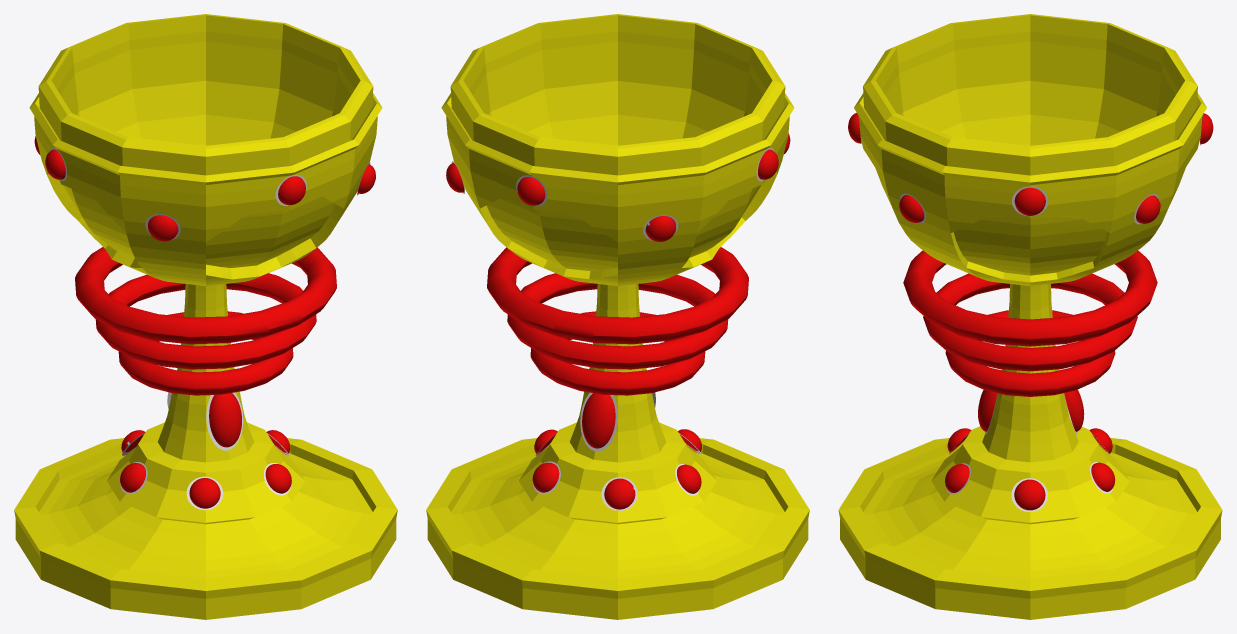
Rendered from hwg_mcguffin.fbx.
3 renders of one model, left to right at view 1: azimuth 30°, elevation 25°; view 2: azimuth 150°, elevation 25°; view 3: azimuth 270°, elevation 25°, orthographic.
Parts seen in each view (by area): view 1: nurbsToPoly1, pasted__pasted__pTorus1 (×2), pasted__pasted__pasted__pTorus1, pasted__pasted__pSphereShape1, pasted__pasted__pasted__pasted__pasted__pasted__pasted__pSph (×2), pasted__pasted__pasted__pasted__pasted__pasted__pasted__past (×2), pasted__pasted__pasted__pasted__pasted__pSphereShape1, pasted__pasted__pasted__pasted__pasted__pasted__pSphereShape; view 2: nurbsToPoly1, pasted__pasted__pTorus1 (×2), pasted__pasted__pasted__pTorus1, pasted__pasted__pSphereShape1, pasted__pasted__pasted__pasted__pasted__pasted__pasted__past (×2), pasted__pasted__pasted__pasted__pasted__pasted__pasted__pSph (×2), pasted__pasted__pasted__pasted__pasted__pasted__pSphereShape (×2); view 3: nurbsToPoly1, pasted__pasted__pTorus1 (×2), pasted__pasted__pasted__pTorus1, pasted__pasted__pasted__pasted__pasted__pasted__pasted__past (×3), pasted__pasted__pasted__pasted__pasted__pasted__pasted__pSph (×2), pasted__pasted__pSphereShape1 (×2), pasted__pasted__pasted__pasted__pasted__pSphereShape1.
Part boxes in pixels (x1,y1,x2,y2): nurbsToPoly1: [14, 14, 397, 619]; pasted__pasted__pTorus1 (×2): [95, 273, 316, 395]; pasted__pasted__pasted__pTorus1: [75, 247, 336, 344]; pasted__pasted__pSphereShape1: [206, 392, 243, 450]; pasted__pasted__pasted__pasted__pasted__pasted__pasted__pSph (×2): [120, 462, 223, 510]; pasted__pasted__pasted__pasted__pasted__pasted__pasted__past (×2): [264, 174, 306, 495]; pasted__pasted__pasted__pasted__pasted__pSphereShape1: [145, 214, 180, 241]; pasted__pasted__pasted__pasted__pasted__pasted__pSphereShape: [45, 148, 66, 180]; nurbsToPoly1: [426, 14, 809, 619]; pasted__pasted__pTorus1 (×2): [507, 273, 728, 395]; pasted__pasted__pasted__pTorus1: [487, 247, 748, 344]; pasted__pasted__pSphereShape1: [580, 392, 618, 451]; pasted__pasted__pasted__pasted__pasted__pasted__pasted__past (×2): [532, 461, 637, 511]; pasted__pasted__pasted__pasted__pasted__pasted__pasted__pSph (×2): [516, 175, 701, 495]; pasted__pasted__pasted__pasted__pasted__pasted__pSphereShape (×2): [643, 148, 778, 241]; nurbsToPoly1: [838, 14, 1222, 619]; pasted__pasted__pTorus1 (×2): [923, 273, 1137, 396]; pasted__pasted__pasted__pTorus1: [903, 250, 1157, 346]; pasted__pasted__pasted__pasted__pasted__pasted__pasted__past (×3): [945, 462, 1115, 512]; pasted__pasted__pasted__pasted__pasted__pasted__pasted__pSph (×2): [1012, 186, 1160, 224]; pasted__pasted__pSphereShape1 (×2): [978, 389, 1084, 434]; pasted__pasted__pasted__pasted__pasted__pSphereShape1: [899, 193, 926, 223].
Size of the model in its own units: 1.44 by 1.9 by 1.44.
